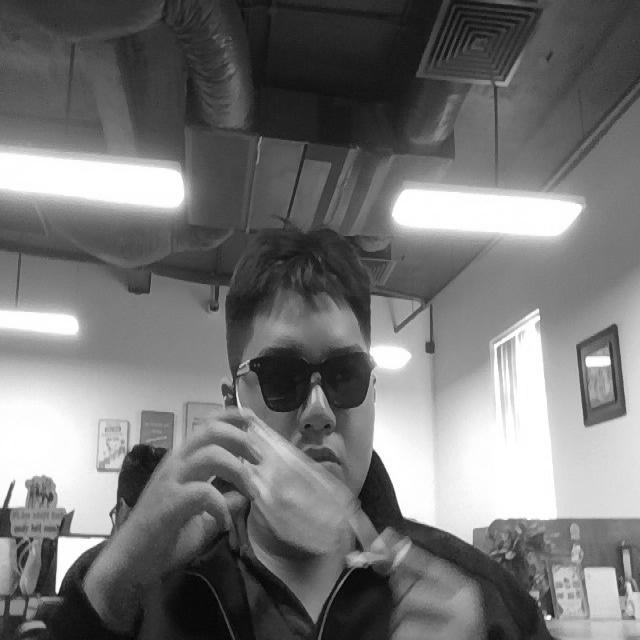fake: (240, 417, 371, 560), (235, 346, 377, 420)
real: (228, 236, 381, 557)
